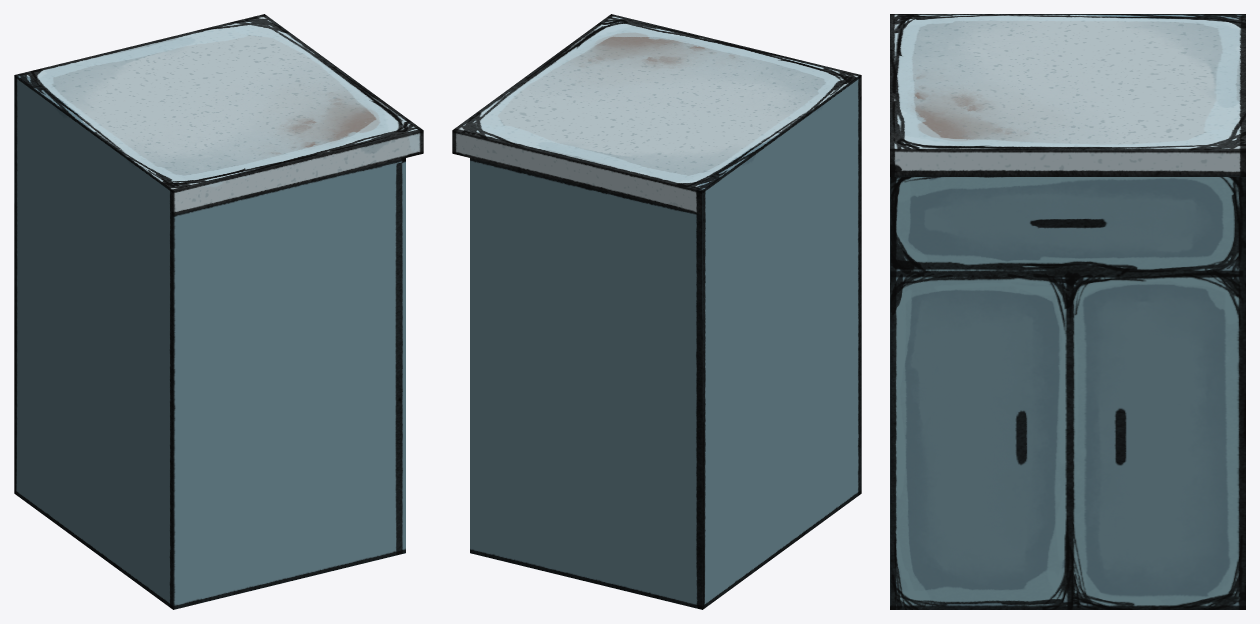
Rendered from pedestal_final.fbx.
3 views of the same model, side by side, from view 1: azimuth 30°, elevation 25°; view 2: azimuth 150°, elevation 25°; view 3: azimuth 270°, elevation 25° (orthographic). The views are drawn at different scales.
Visible parts, largest first — view 1: pedestal.001; view 2: pedestal.001; view 3: pedestal.001.
Boxes of the visible parts, x1,y1,x2,y2 form: pedestal.001: [14, 14, 423, 609]; pedestal.001: [452, 14, 861, 609]; pedestal.001: [890, 14, 1245, 609].
Size of the model in its own units: 0.8974 by 1.43 by 0.9869.
1 material, 1 textured.
